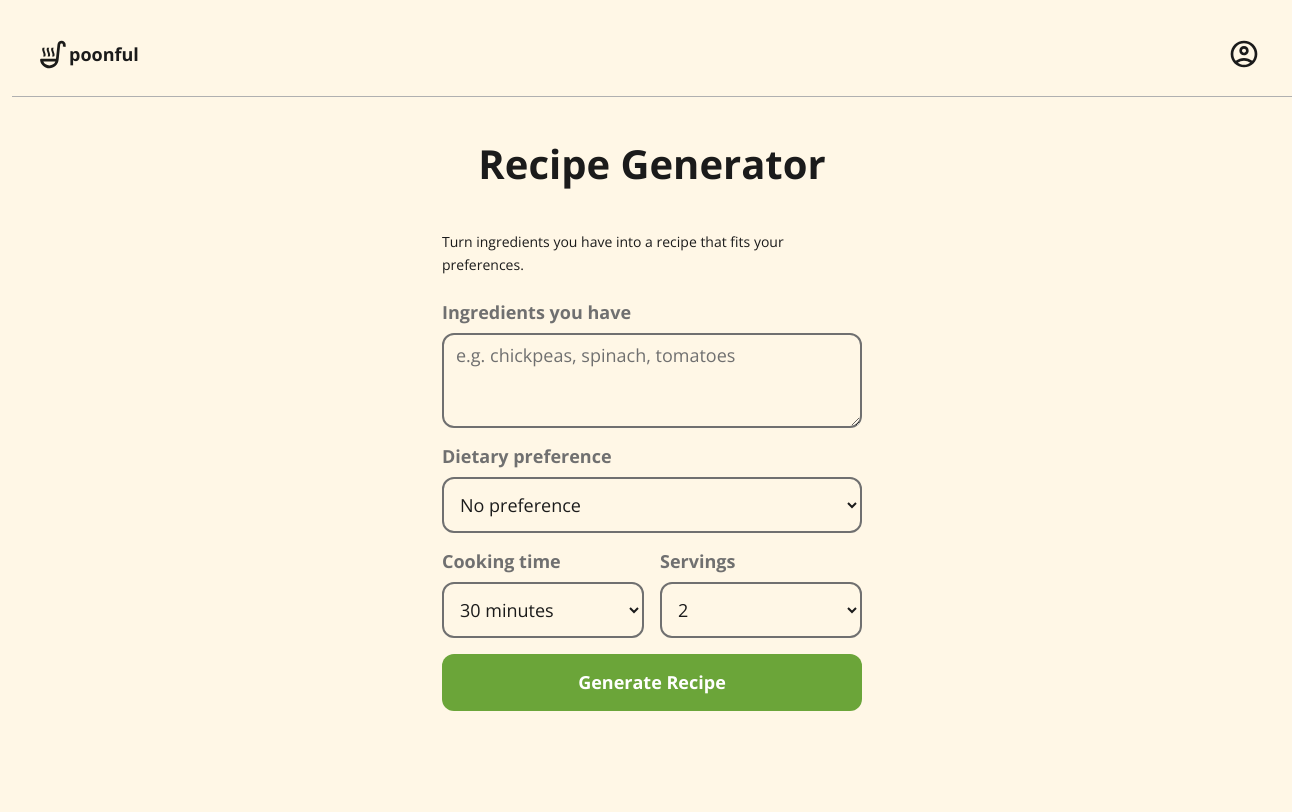
Scenario: rejects missing ingredients before contacting the backend
Click the button "Generate Recipe": (652, 683) 442,654 -> 862,711
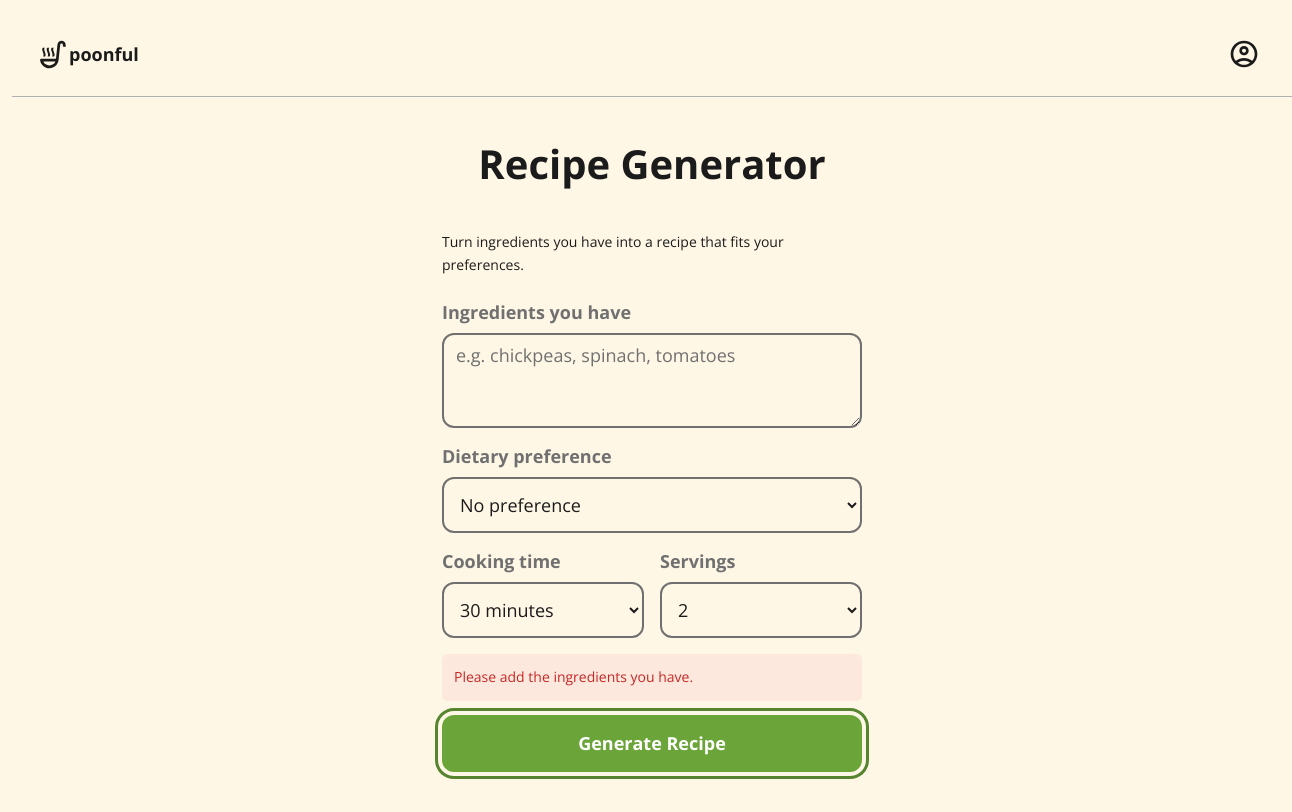
Expected: the message shows "Please add the ingredients", 454,667 -> 693,686
